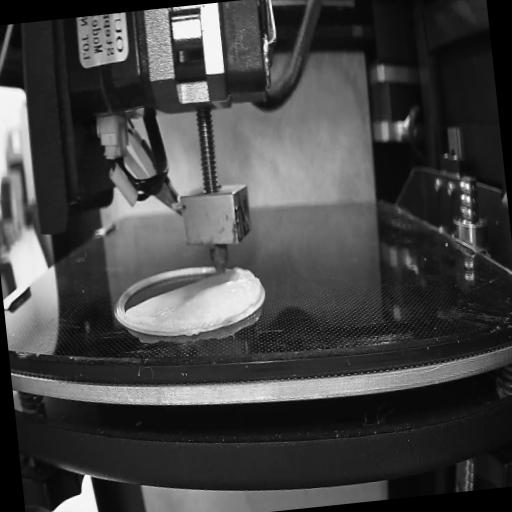over_extrusion: (232, 259, 264, 314)
